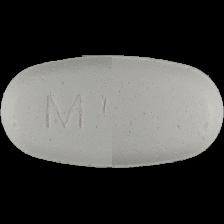43353-547: (0, 0, 224, 224)
